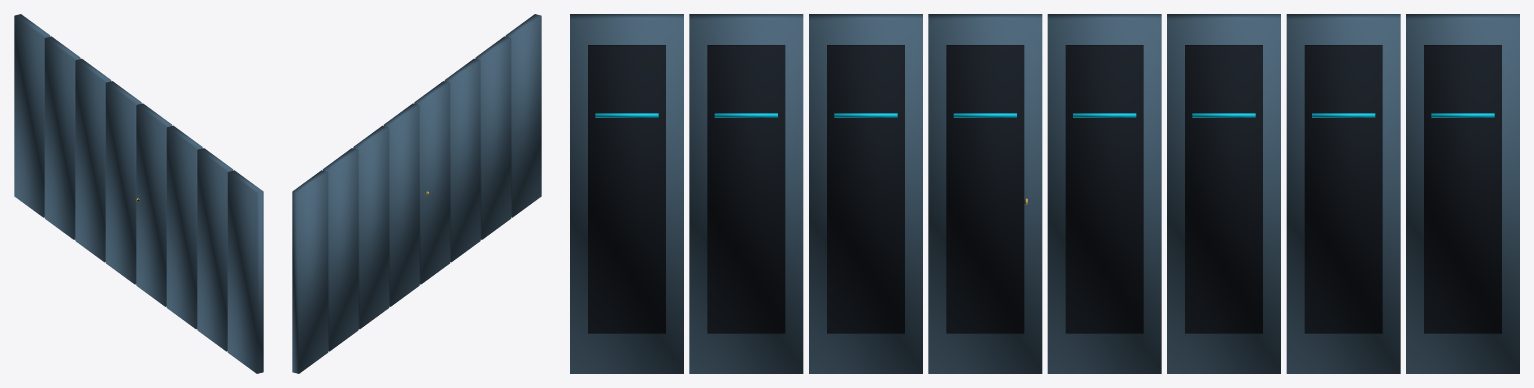
The model's file is 02_L93_TitaniumWallModuleLeft.fbx.
3 renders of one model, left to right at view 1: azimuth 30°, elevation 25°; view 2: azimuth 150°, elevation 25°; view 3: azimuth 270°, elevation 25°, orthographic. The views are drawn at different scales.
Parts seen in each view (by area): view 1: L92_TitaniumWallModuleLeft_Part_0000; view 2: L92_TitaniumWallModuleLeft_Part_0000; view 3: L92_TitaniumWallModuleLeft_Part_0001, L92_TitaniumWallModuleLeft_Part_0000, L92_TitaniumWallModuleLeft_Part_0002.
Part boxes in pixels (x1,y1,x2,y2): L92_TitaniumWallModuleLeft_Part_0000: (14, 14, 263, 373); L92_TitaniumWallModuleLeft_Part_0000: (292, 14, 541, 373); L92_TitaniumWallModuleLeft_Part_0001: (588, 45, 1501, 333); L92_TitaniumWallModuleLeft_Part_0000: (570, 14, 1519, 373); L92_TitaniumWallModuleLeft_Part_0002: (595, 113, 1494, 117).
Size of the model in its own units: 67 by 800 by 1949.
